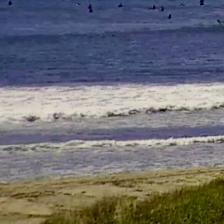surfer: (148, 5, 158, 11), (198, 0, 207, 6), (87, 4, 92, 13), (217, 19, 223, 25), (117, 3, 124, 8), (161, 7, 166, 12), (8, 0, 12, 6), (168, 14, 172, 19)
